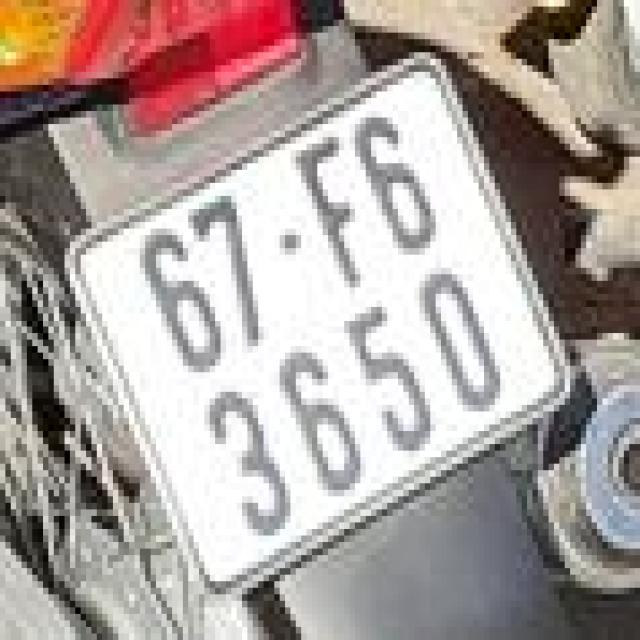0: (405, 250, 514, 424)
3: (192, 377, 305, 553)
5: (335, 285, 451, 464)
6: (337, 93, 459, 272), (265, 330, 381, 513), (126, 209, 235, 388)
7: (178, 183, 281, 356)
F: (281, 122, 386, 301)
